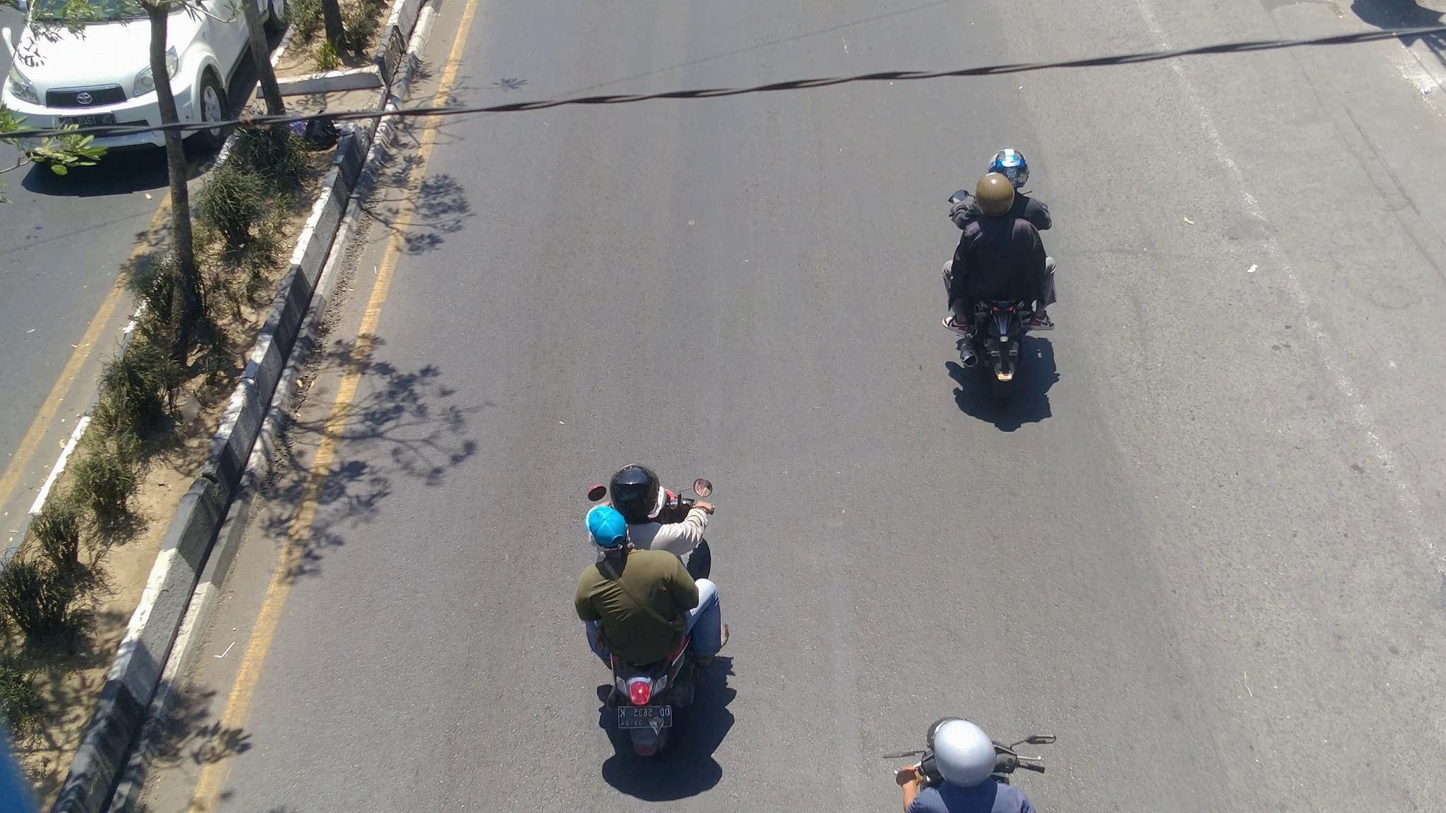Helmet: (920, 708, 1002, 796), (604, 458, 666, 527), (983, 143, 1032, 196), (973, 169, 1016, 221)
bike: (580, 477, 727, 757), (942, 181, 1068, 410)
no-helmet: (581, 497, 638, 562)
rider: (576, 499, 731, 678), (945, 168, 1060, 333), (605, 458, 716, 558)
